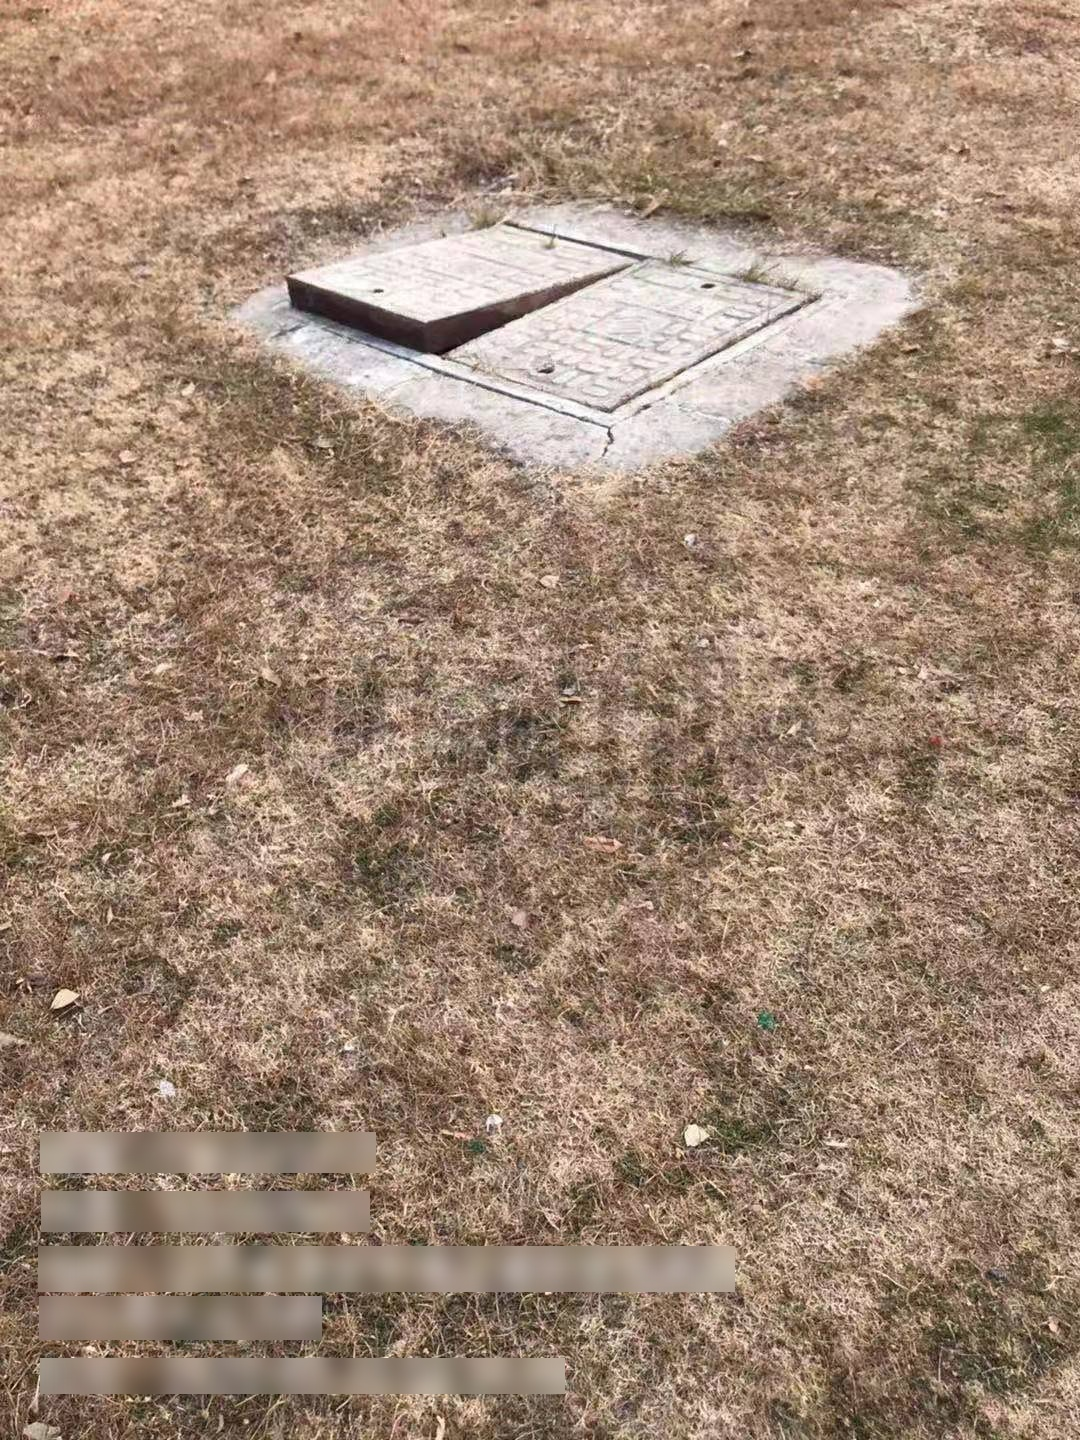uncovered: (277, 213, 834, 427)
